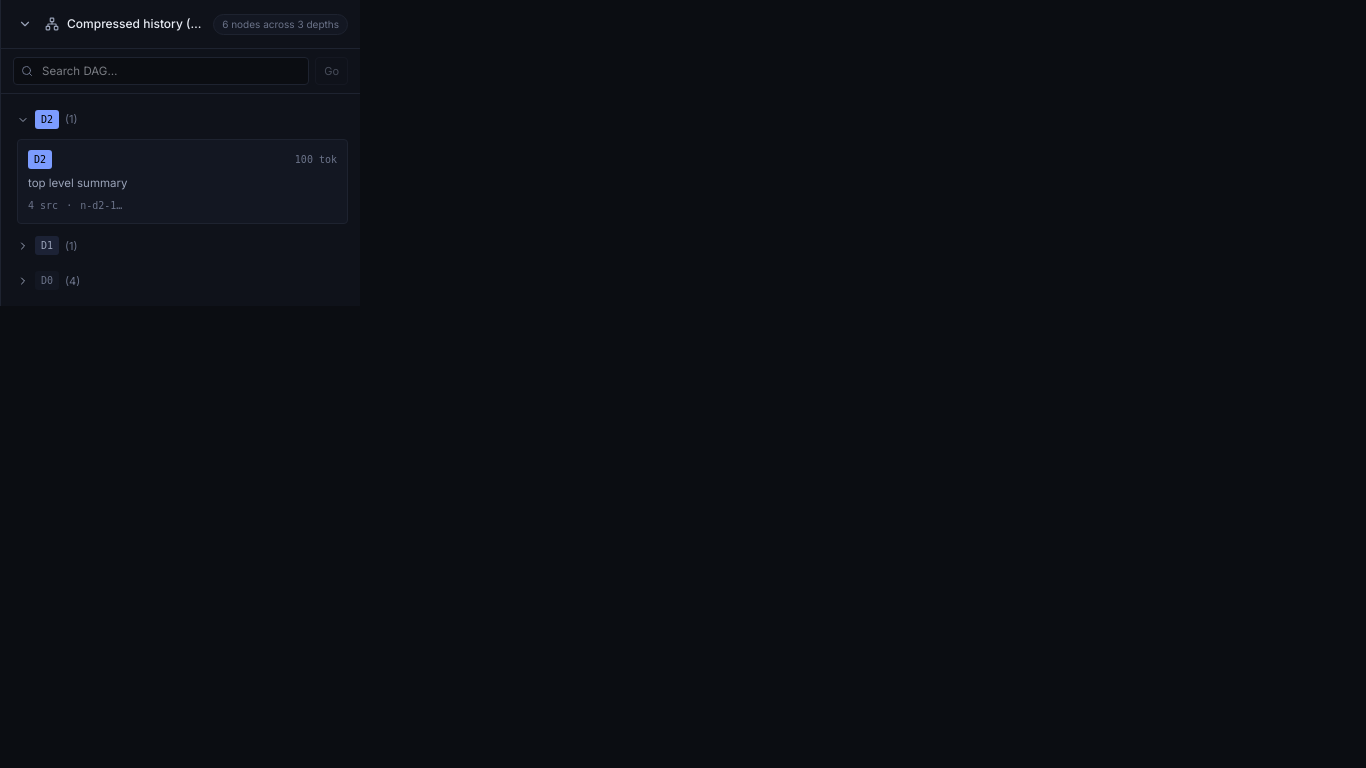
Test: <DagPanel /> › clicking a node card opens the MessageDrillModal (B4) and fetches detail
This screenshot has width=1366, height=768.
Expected: the element with test id "dag-node-n-d2-1" is shown, x1=17 y1=139 x2=348 y2=224
Click the button with test id "dag-node-button-n-d2-1": (78, 183) x1=28 y1=150 x2=337 y2=213
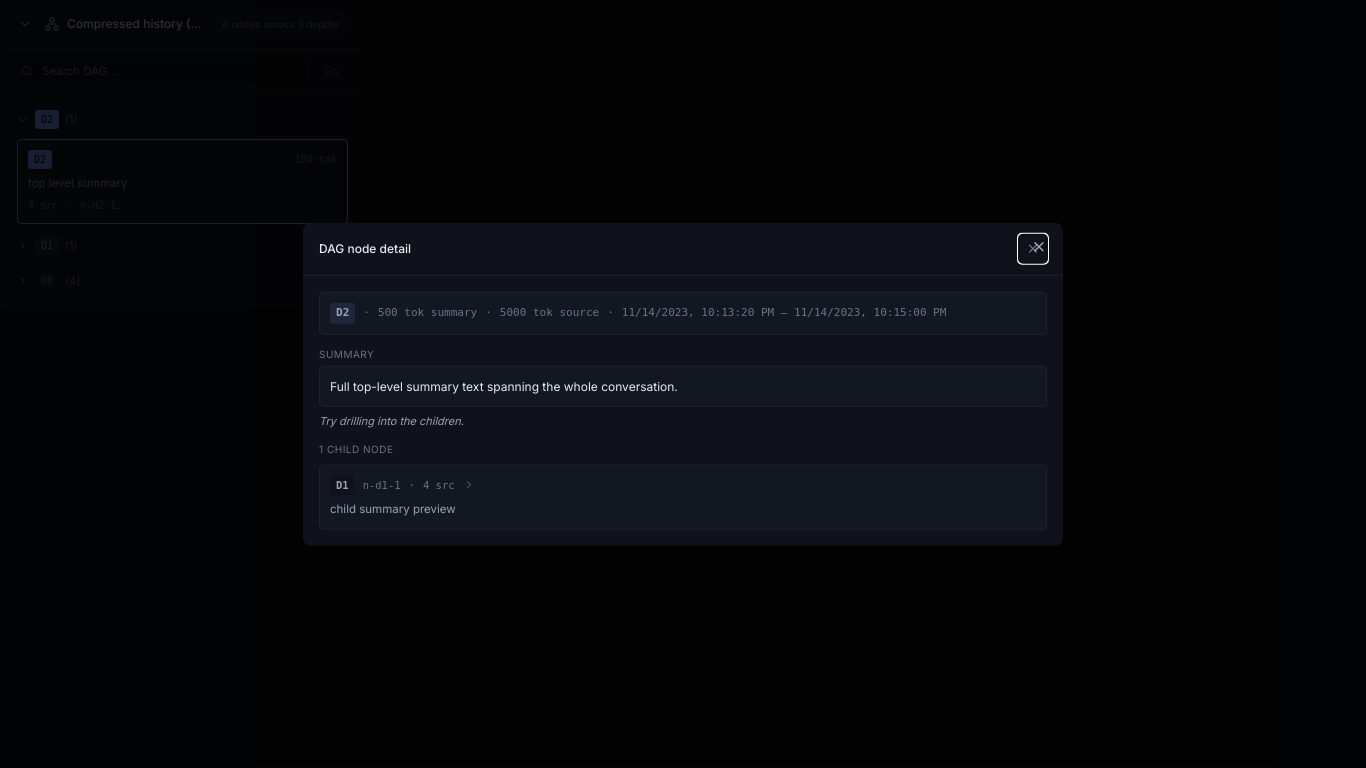
Now the dialog with test id "message-drill-modal" is shown, box x1=303 y1=223 x2=1063 y2=545
Now the text "Full top-level summary text spanning the whole conversation." is shown, box x1=319 y1=365 x2=1047 y2=407
Now the text "Try drilling into the children." is shown, box x1=319 y1=414 x2=464 y2=428
